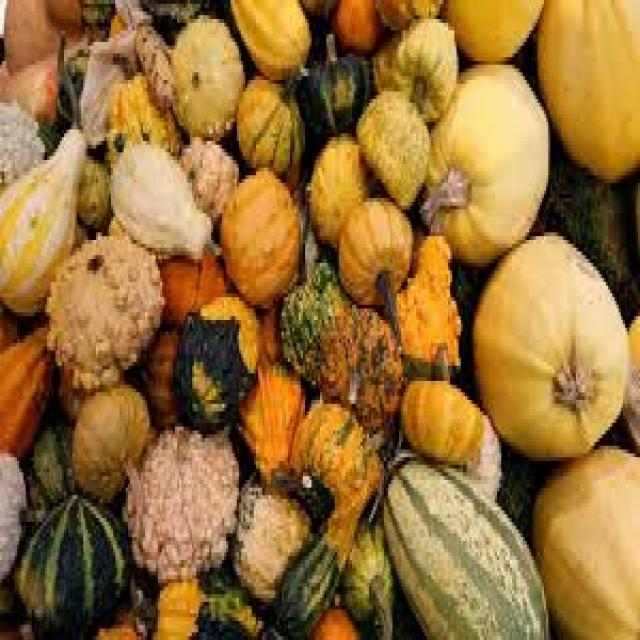organic waste: (470, 225, 628, 457), (382, 454, 550, 636), (423, 61, 546, 263), (531, 438, 638, 636), (124, 415, 239, 583), (43, 221, 162, 381), (535, 0, 638, 175), (8, 492, 124, 636), (0, 118, 83, 312), (288, 396, 380, 568), (109, 137, 220, 259), (232, 309, 303, 480), (232, 305, 303, 476), (275, 255, 354, 404), (220, 164, 301, 301), (232, 464, 310, 606), (177, 286, 258, 419), (316, 305, 399, 434), (390, 228, 459, 374), (68, 381, 150, 503), (369, 12, 454, 118), (354, 88, 429, 202), (169, 11, 243, 126), (335, 194, 410, 305), (303, 125, 367, 248), (273, 518, 339, 636), (156, 568, 262, 636), (303, 30, 371, 134), (399, 373, 478, 461), (0, 320, 51, 453), (341, 514, 395, 636), (234, 68, 300, 164), (0, 42, 83, 118), (105, 69, 177, 156), (75, 31, 132, 137), (23, 412, 72, 534), (230, 0, 308, 76), (442, 0, 544, 57), (2, 0, 85, 69), (156, 251, 226, 320), (181, 133, 237, 217), (41, 38, 83, 145), (139, 316, 179, 423), (0, 99, 43, 179), (60, 362, 119, 419), (463, 404, 499, 495), (134, 23, 167, 114), (0, 449, 23, 579), (322, 0, 378, 50), (77, 152, 109, 225), (623, 301, 638, 442), (375, 0, 435, 30), (307, 602, 358, 636), (143, 0, 203, 27), (94, 606, 143, 636), (115, 0, 142, 34), (296, 0, 335, 23)
